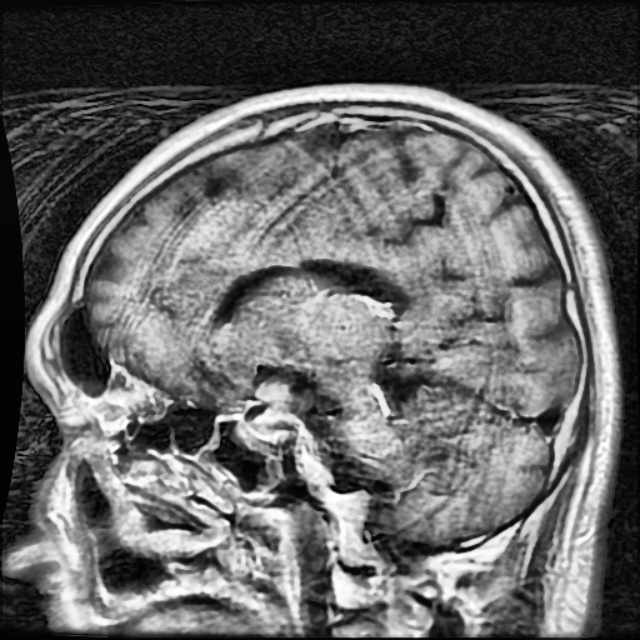Pituitary: (259, 373, 309, 427)
